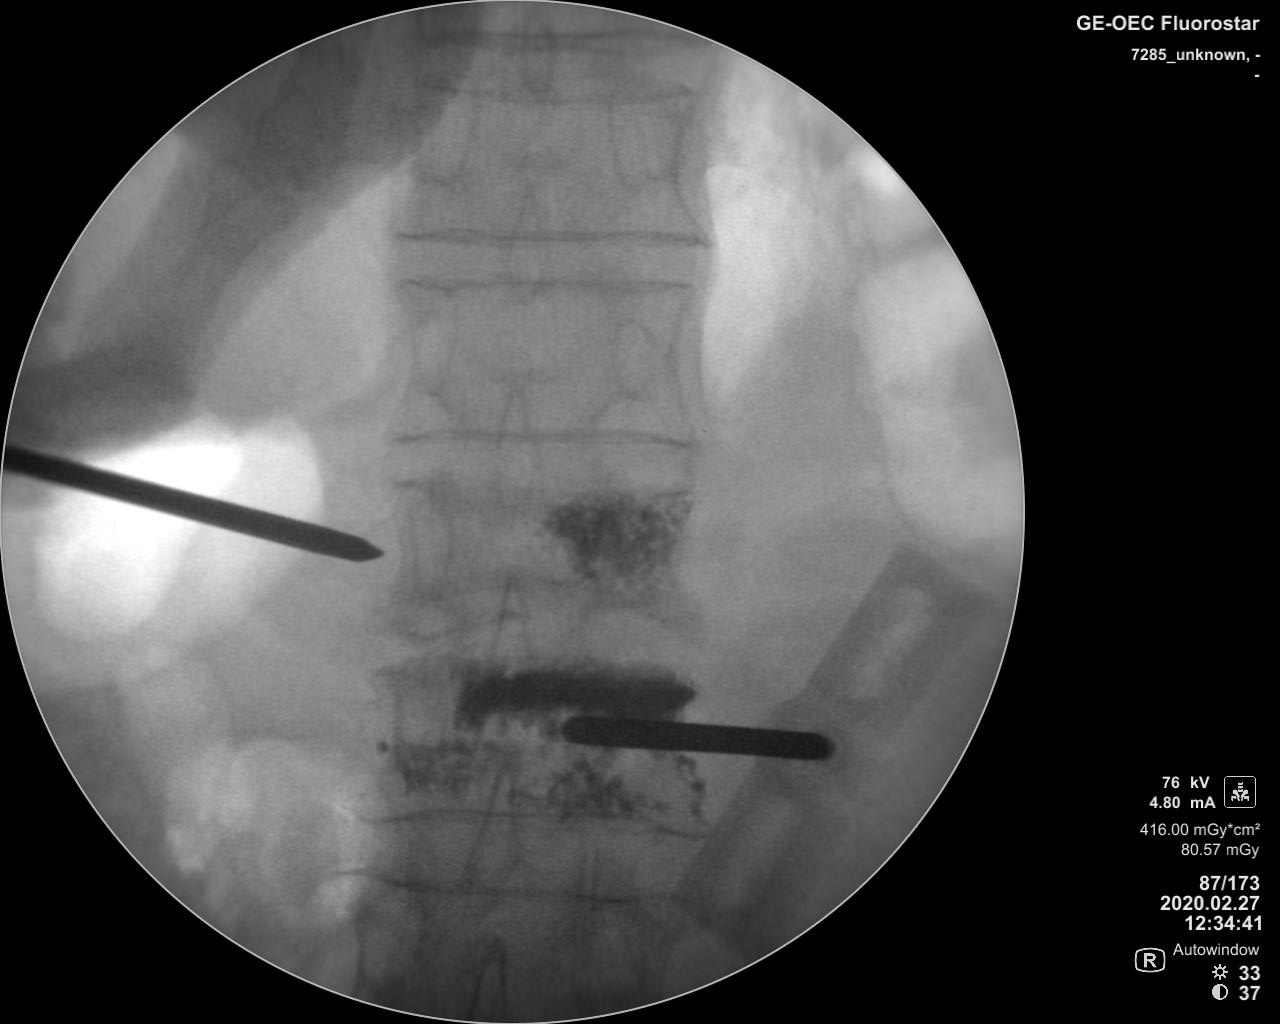eyes: (607, 77, 677, 191), (358, 884, 422, 987), (421, 82, 481, 189), (604, 315, 662, 405), (405, 494, 451, 598), (408, 304, 456, 396)
line: (359, 872, 675, 914), (362, 802, 701, 839), (392, 224, 712, 254), (387, 424, 694, 456), (420, 74, 691, 104), (419, 29, 699, 55), (394, 272, 695, 295)
nose: (465, 754, 523, 893), (503, 179, 549, 310), (490, 572, 536, 686), (460, 934, 519, 1022), (497, 379, 540, 496), (514, 10, 559, 101)
